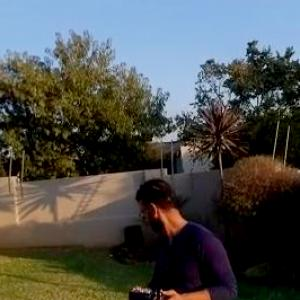follow: (121, 163, 237, 299)
